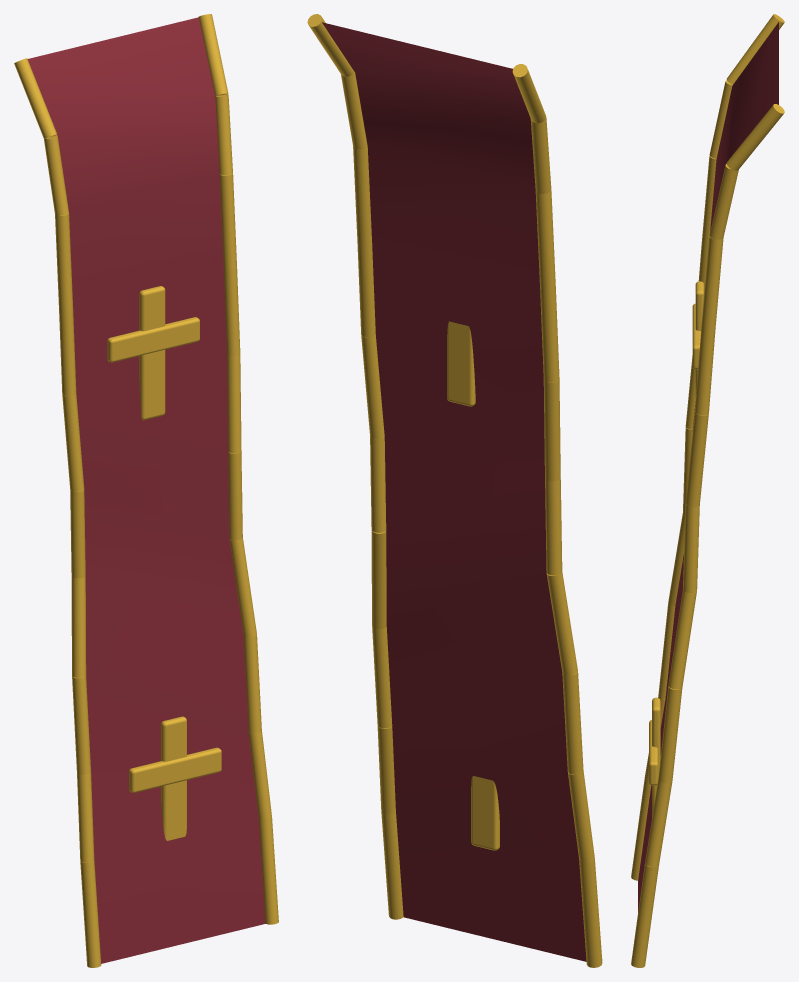
The model's file is epitrahil.glb.
The picture shows the model from 3 angles, left to right: view 1: azimuth 30°, elevation 25°; view 2: azimuth 150°, elevation 25°; view 3: azimuth 270°, elevation 25°; orthographic projection. The views are drawn at different scales.
Parts seen in each view (by area): view 1: epitrahil; view 2: epitrahil; view 3: epitrahil.
Part boxes in pixels (x1,y1,x2,y2): epitrahil: (14, 14, 278, 967); epitrahil: (307, 14, 602, 967); epitrahil: (631, 14, 784, 967).
Bounding box in the file's own units: 0.5758 × 2.4 × 0.3887.
